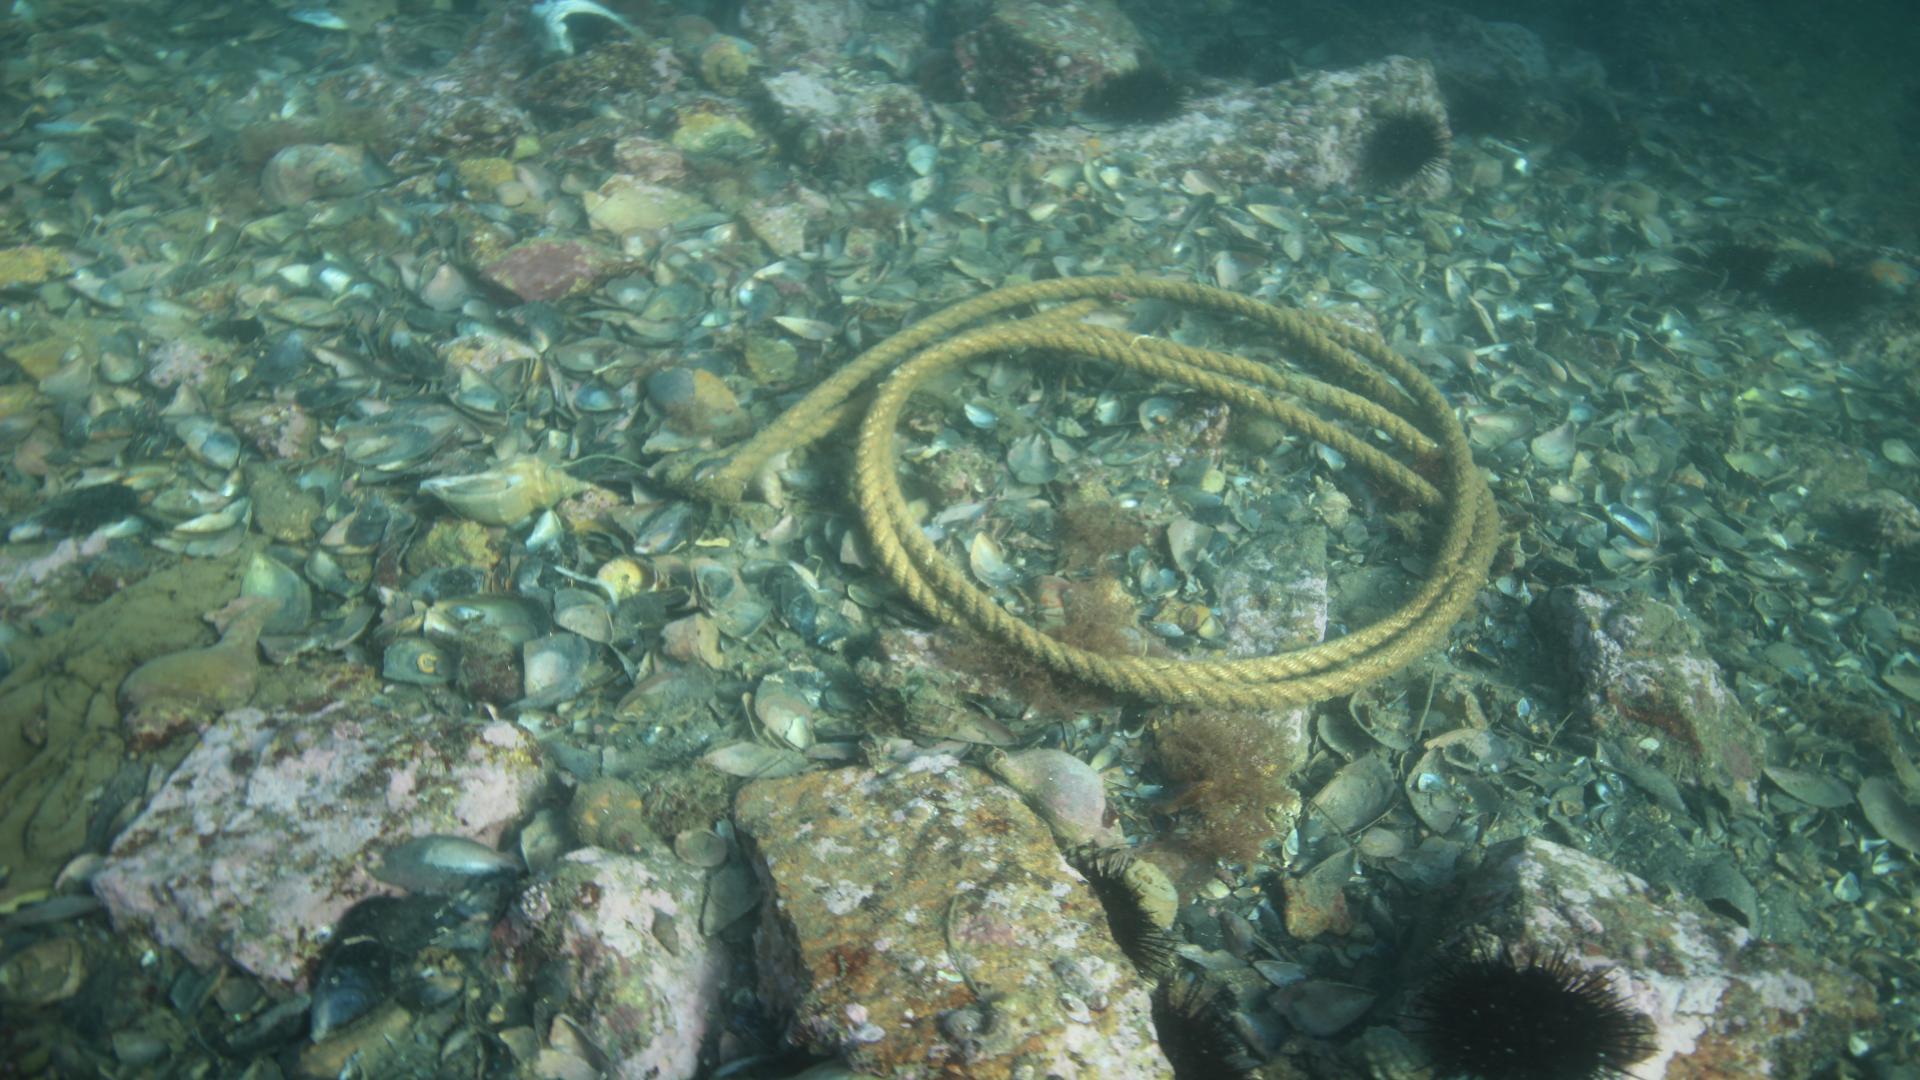bundle of ropes: (728, 269, 1510, 715)
